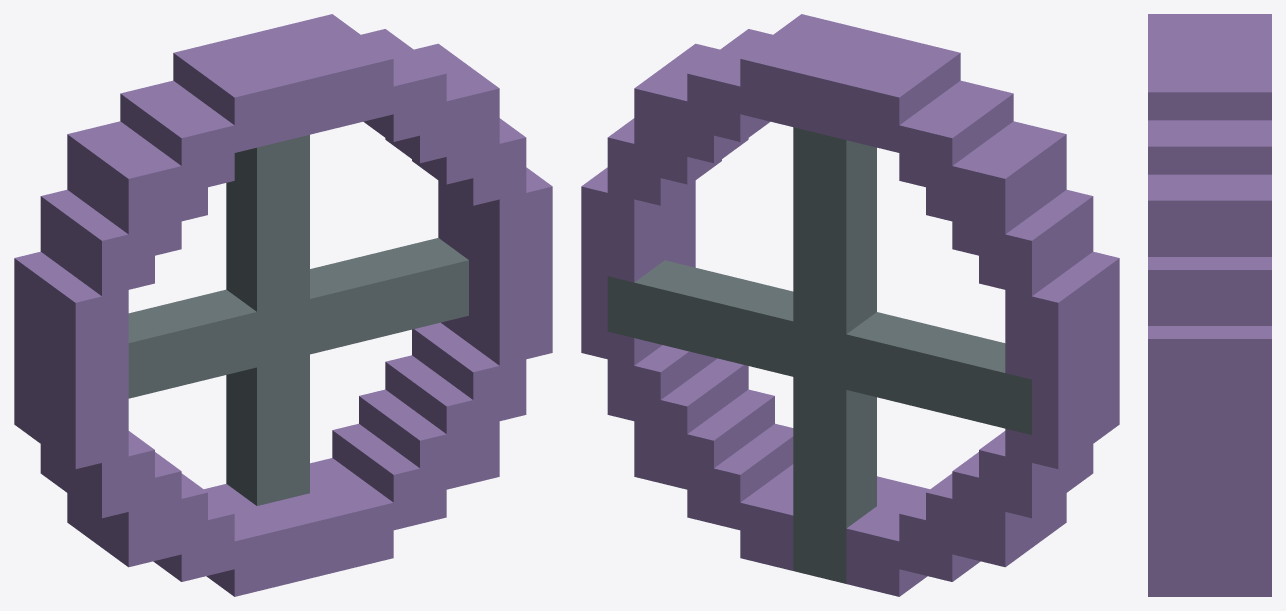
The model's file is games-08.glb.
3 renders of one model, left to right at view 1: azimuth 30°, elevation 25°; view 2: azimuth 150°, elevation 25°; view 3: azimuth 270°, elevation 25°, orthographic.
Parts seen in each view (by area): view 1: Racing wheel; view 2: Racing wheel; view 3: Racing wheel.
Part boxes in pixels (box(x1,y1,x2,y2)): Racing wheel: box(14, 14, 552, 596); Racing wheel: box(581, 14, 1119, 596); Racing wheel: box(1148, 14, 1271, 596).
Bounding box in the file's own units: 1.44 × 1.44 × 0.32.
